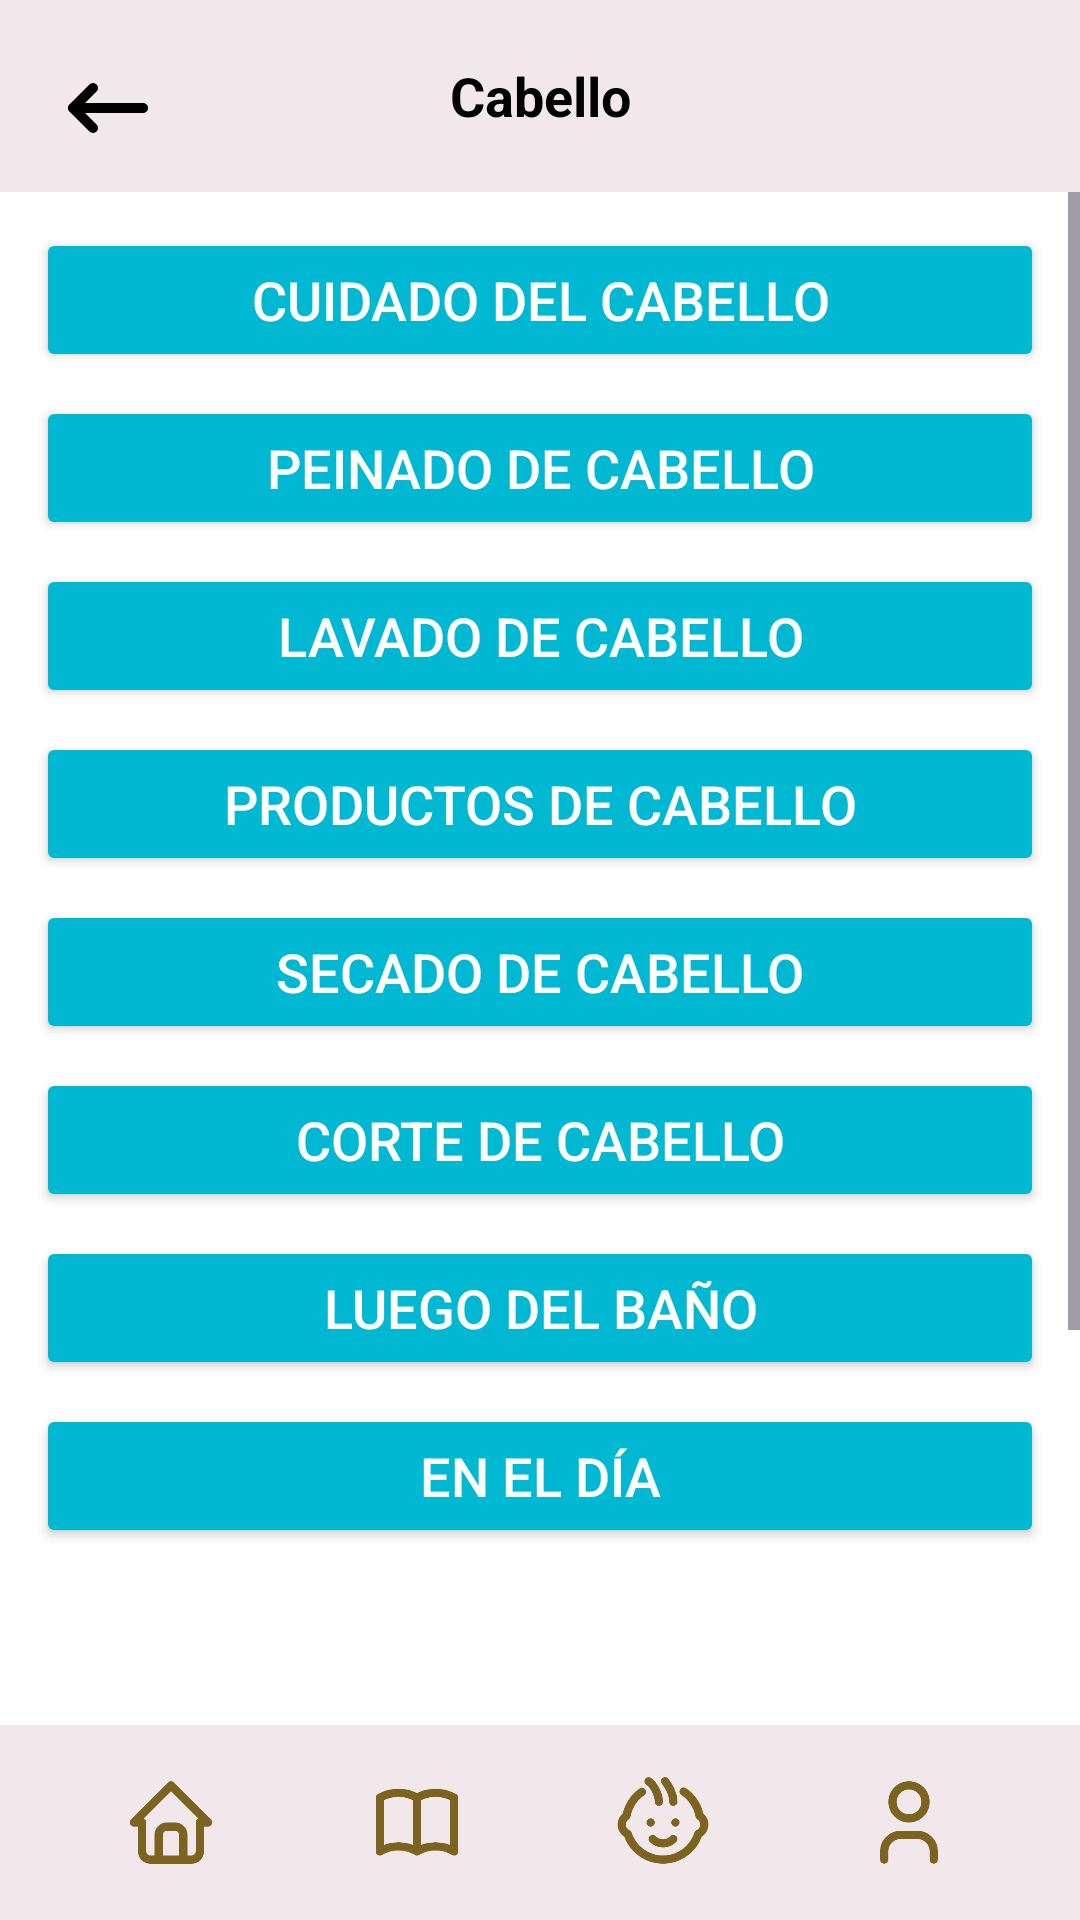

Named icons in this screenshot (1080×1920) and their centers, [x,y]:
book: [417,1822]
home: [171,1822]
moodboy: [663,1820]
personaa: [909,1822]
